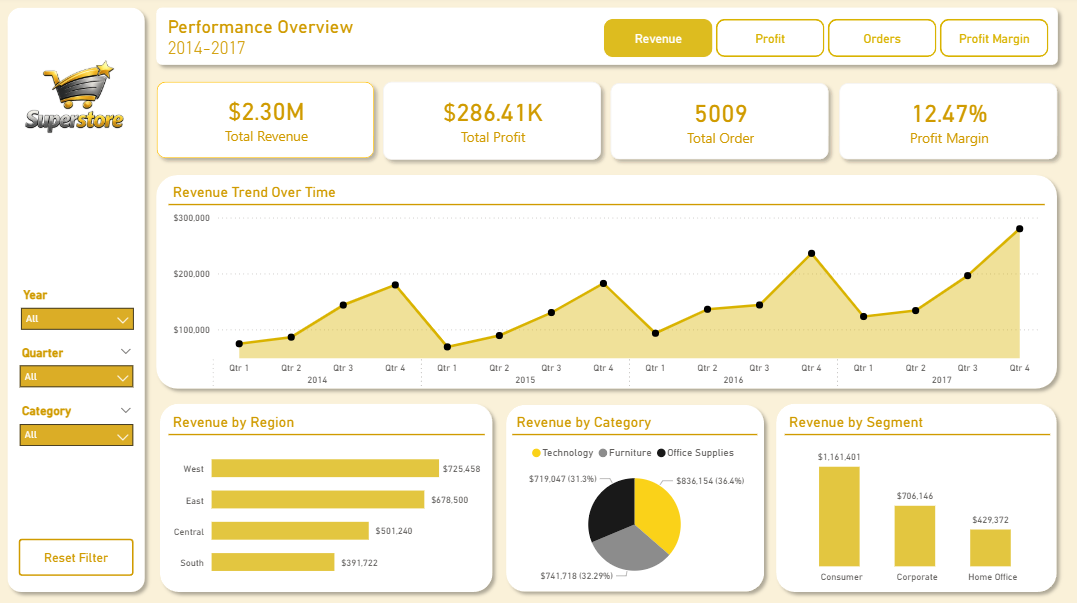

The dashboard page shown, as its layout file describes it:
{"tool":"powerbi","page":{"name":"Overview","canvas":[1280,720],"ordinal":0},"visuals":[{"type":"group","id":"g1","title":"Menu","box":[4.3,4.3,181.4,707.1],"z":0},{"type":"shape","title":"Menu Shape","box":[4.3,4.3,180,707.1],"z":0,"group":"g1"},{"type":"shape","title":"Title and Metric Selector Shape","box":[180,4.3,1080.9,85.7],"z":0,"group":"g2"},{"type":"cardVisual","title":"Total Revenue","fields":{"Data":["Card/KPI Measure.Total Revenue"]},"box":[160,72.9,314.9,148.6],"z":0,"group":"g3"},{"type":"shape","box":[180,201.4,1079.7,270],"z":0,"group":"g4"},{"type":"shape","box":[184,471,410,240],"z":0,"group":"g5"},{"type":"shape","box":[910,471.4,348.6,240],"z":0,"group":"g7"},{"type":"shape","box":[592,473,322,238],"z":0,"group":"g6"},{"type":"group","id":"g2","title":"Title and Metric Selector","box":[180,4.3,1080.9,95.7],"z":1000},{"type":"textbox","title":"Title","box":[197.1,18.6,664.3,81.4],"z":1000,"group":"g2"},{"type":"image","title":"Superstore Logo","box":[5.7,30,180,191.4],"z":1000,"group":"g1"},{"type":"cardVisual","title":"Total Profit","fields":{"Data":["Card/KPI Measure.Total Profit"]},"box":[426.2,72.5,315,150],"z":1000,"group":"g3"},{"type":"lineChart","fields":{"Y":["Card/KPI Measure.Total Revenue"],"Category":["Superstore Fact Table.Order_Date.Variation.Date Hierarchy.Year","Superstore Fact Table.Order_Date.Variation.Date Hierarchy.Quarter"]},"box":[203,221,1033,250],"z":1000,"group":"g4"},{"type":"clusteredBarChart","fields":{"Y":["Card/KPI Measure.Total Revenue"],"Category":["Superstore Fact Table.Region"]},"box":[202.9,491.4,372.9,207.1],"z":1000,"group":"g5"},{"type":"pieChart","fields":{"Y":["Card/KPI Measure.Total Revenue"],"Category":["Superstore Fact Table.Category"]},"box":[608.6,491.4,288.6,207.1],"z":1000,"group":"g6"},{"type":"clusteredColumnChart","fields":{"Y":["Card/KPI Measure.Total Revenue"],"Category":["Superstore Fact Table.Segment"]},"box":[928.6,491.4,312.9,207.1],"z":1000,"group":"g7"},{"type":"advancedSlicerVisual","title":"Metric Selector","fields":{"Values":["Parameter.Parameter"]},"box":[711.4,21.4,534.3,55.7],"z":2000,"group":"g2"},{"type":"group","id":"g3","title":"Card","box":[160,72.5,1120,150],"z":2000},{"type":"cardVisual","title":"Total Order","fields":{"Data":["Card/KPI Measure.Total Order"]},"box":[695,73.7,315,148.8],"z":2000,"group":"g3"},{"type":"slicer","title":"Year Slicer","fields":{"Values":["Superstore Fact Table.Order_Date.Variation.Date Hierarchy.Year"]},"box":[18.6,338.6,152.9,68.6],"z":2000,"group":"g1"},{"type":"cardVisual","title":"Profit Margin","fields":{"Data":["Card/KPI Measure.Profit Margin"]},"box":[965,73.7,315,148.8],"z":3000,"group":"g3"},{"type":"group","id":"g4","title":"Metric Trend over Time","box":[180,201.4,1079.7,270],"z":3000},{"type":"slicer","title":"Quarter Slicer","fields":{"Values":["Superstore Fact Table.Order_Date.Variation.Date Hierarchy.Quarter"]},"box":[17.2,407.2,154.3,70],"z":3000,"group":"g1"},{"type":"group","id":"g5","title":"Metric by Region","box":[184,471,410,240],"z":4000},{"type":"slicer","title":"Category Slicer","fields":{"Values":["Superstore Fact Table.Category"]},"box":[17.2,475.7,154.3,67.1],"z":4000,"group":"g1"},{"type":"group","id":"g6","title":"Metric by Category","box":[592,473,322,238],"z":5000},{"type":"actionButton","title":"Reset Filter Button","box":[25.7,638.6,135.7,44.3],"z":5000,"group":"g1"},{"type":"group","id":"g7","title":"Metric by Year","box":[910,471.4,348.6,240],"z":6000}]}

Visuals, with their boxes in screenshot pixels (x1, y1, x2, y2), scaled from the page's 1280x720 canvas onto the 1077x603 screenshot:
"Menu" group: [left=4, top=4, right=156, bottom=596]
"Menu Shape" shape: [left=4, top=4, right=155, bottom=596]
"Title and Metric Selector Shape" shape: [left=151, top=4, right=1061, bottom=75]
"Total Revenue" cardVisual: [left=135, top=61, right=400, bottom=186]
shape: [left=151, top=169, right=1060, bottom=395]
shape: [left=155, top=394, right=500, bottom=595]
shape: [left=766, top=395, right=1059, bottom=596]
shape: [left=498, top=396, right=769, bottom=595]
"Title and Metric Selector" group: [left=151, top=4, right=1061, bottom=84]
"Title" textbox: [left=166, top=16, right=725, bottom=84]
"Superstore Logo" image: [left=5, top=25, right=156, bottom=185]
"Total Profit" cardVisual: [left=359, top=61, right=624, bottom=186]
lineChart - Card/KPI Measure.Total Revenue x Superstore Fact Table.Order_Date.Variation.Date Hierarchy.Year: [left=171, top=185, right=1040, bottom=394]
clusteredBarChart - Card/KPI Measure.Total Revenue x Superstore Fact Table.Region: [left=171, top=412, right=484, bottom=585]
pieChart - Card/KPI Measure.Total Revenue x Superstore Fact Table.Category: [left=512, top=412, right=755, bottom=585]
clusteredColumnChart - Card/KPI Measure.Total Revenue x Superstore Fact Table.Segment: [left=781, top=412, right=1045, bottom=585]
"Metric Selector" advancedSlicerVisual: [left=599, top=18, right=1048, bottom=65]
"Card" group: [left=135, top=61, right=1076, bottom=186]
"Total Order" cardVisual: [left=585, top=62, right=850, bottom=186]
"Year Slicer" slicer: [left=16, top=284, right=144, bottom=341]
"Profit Margin" cardVisual: [left=812, top=62, right=1076, bottom=186]
"Metric Trend over Time" group: [left=151, top=169, right=1060, bottom=395]
"Quarter Slicer" slicer: [left=14, top=341, right=144, bottom=400]
"Metric by Region" group: [left=155, top=394, right=500, bottom=595]
"Category Slicer" slicer: [left=14, top=398, right=144, bottom=455]
"Metric by Category" group: [left=498, top=396, right=769, bottom=595]
"Reset Filter Button" actionButton: [left=22, top=535, right=136, bottom=572]
"Metric by Year" group: [left=766, top=395, right=1059, bottom=596]
